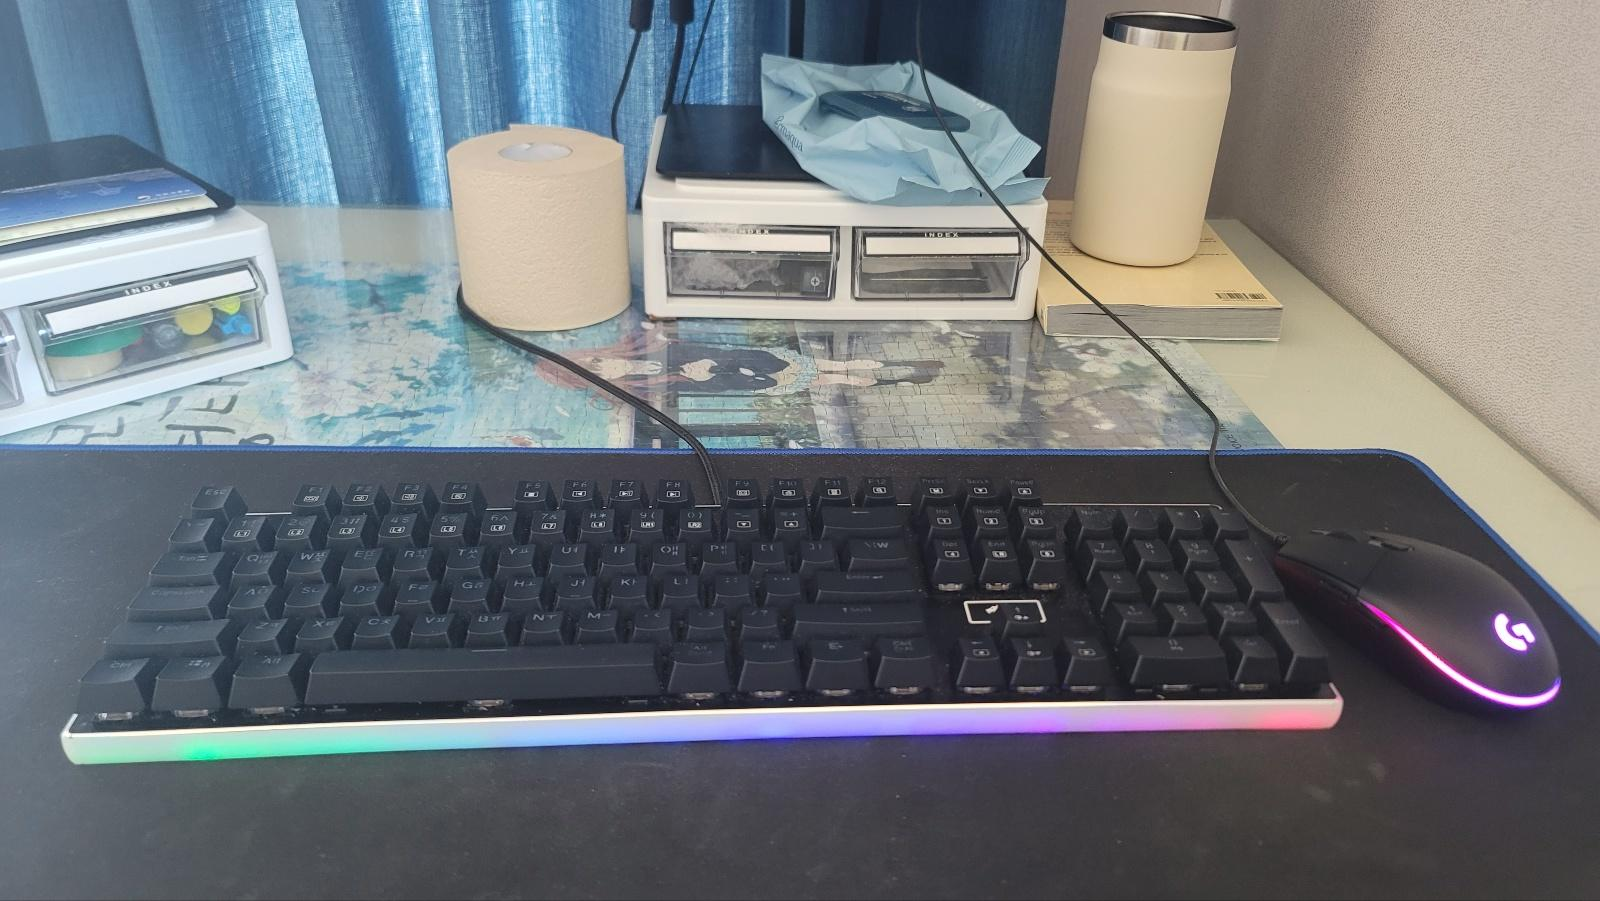book: (1035, 216, 1284, 342)
keyboard: (60, 448, 1343, 761)
mouse: (1271, 524, 1562, 716)
